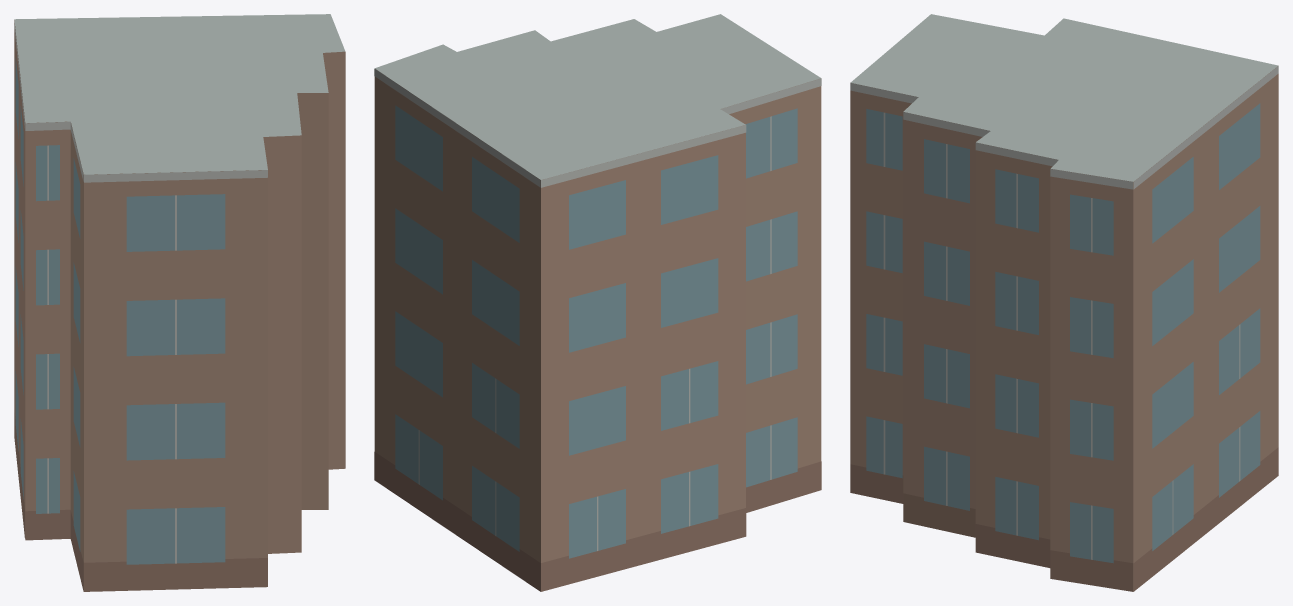
The model's file is survey-upis-32666144.glb.
3 views of the same model, side by side, from view 1: azimuth 30°, elevation 25°; view 2: azimuth 150°, elevation 25°; view 3: azimuth 270°, elevation 25° (orthographic).
Parts seen in each view (by area): view 1: survey-upis-32666144.tmp; view 2: survey-upis-32666144.tmp; view 3: survey-upis-32666144.tmp.
Part boxes in pixels (x1,y1,x2,y2): survey-upis-32666144.tmp: (14,14,345,591); survey-upis-32666144.tmp: (374,14,821,591); survey-upis-32666144.tmp: (850,14,1278,591).
Bounding box in the file's own units: 11.24 × 12.8 × 12.13.
